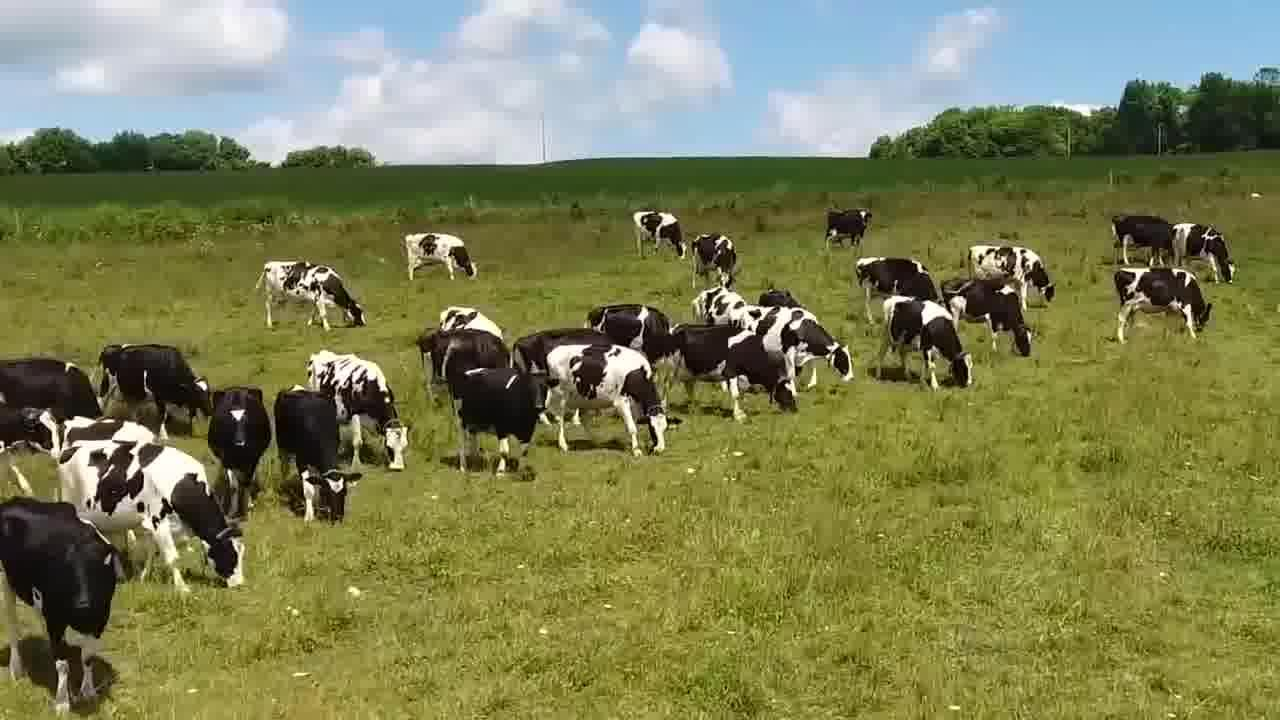cow: (51, 438, 255, 597), (0, 491, 130, 713), (539, 341, 685, 463), (442, 365, 565, 492), (720, 304, 865, 404), (300, 346, 415, 472), (669, 322, 802, 418), (271, 381, 359, 525), (103, 336, 220, 432), (874, 293, 979, 392), (205, 381, 275, 525), (252, 253, 372, 333), (1109, 264, 1215, 347), (941, 278, 1038, 359), (2, 354, 105, 426), (961, 242, 1062, 304), (1169, 216, 1246, 290), (0, 397, 67, 482), (404, 226, 486, 285), (853, 249, 938, 304), (414, 327, 507, 374), (580, 299, 675, 345), (1113, 210, 1183, 268), (627, 207, 692, 264), (691, 231, 741, 291), (824, 206, 878, 254), (692, 283, 741, 323)
